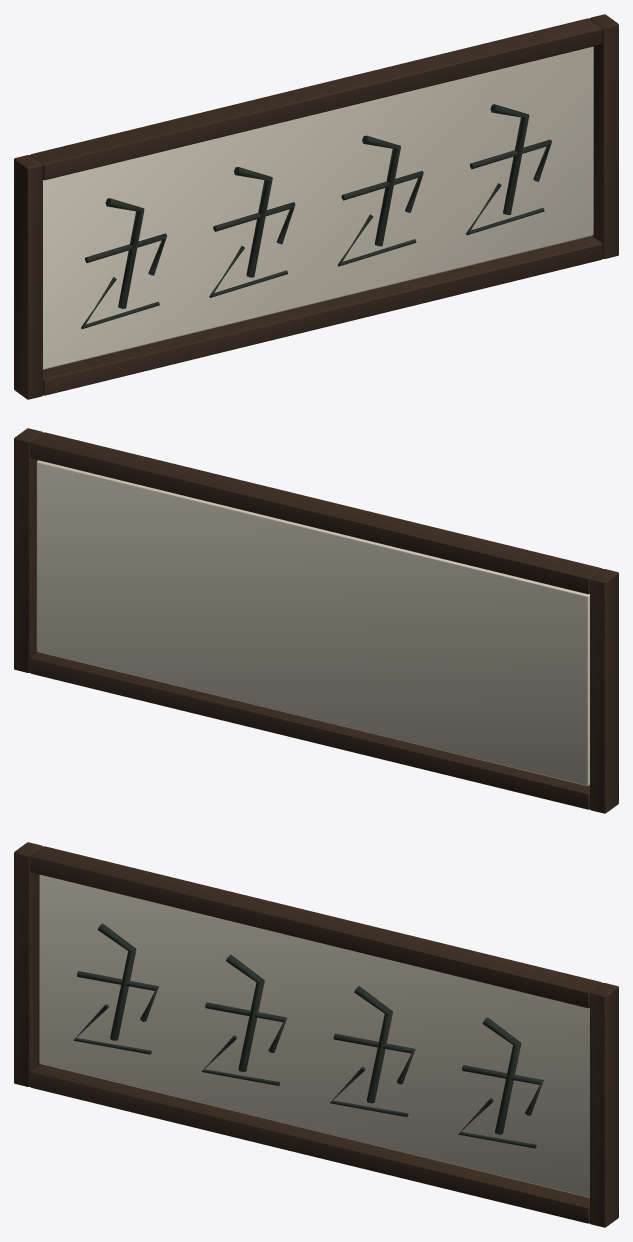
File: kominka-hengaku-01.glb
3 renders of one model, top to bottom at view 1: azimuth 30°, elevation 25°; view 2: azimuth 150°, elevation 25°; view 3: azimuth 330°, elevation 25°, orthographic.
Parts seen in each view (by area): view 1: kominka-hengaku-01; view 2: kominka-hengaku-01; view 3: kominka-hengaku-01.
Part boxes in pixels (<box>): kominka-hengaku-01: <box>14,14,618,399</box>; kominka-hengaku-01: <box>14,428,618,813</box>; kominka-hengaku-01: <box>14,842,618,1227</box>.
Bounding box in the file's own units: 1.2 × 0.45 × 0.05.
